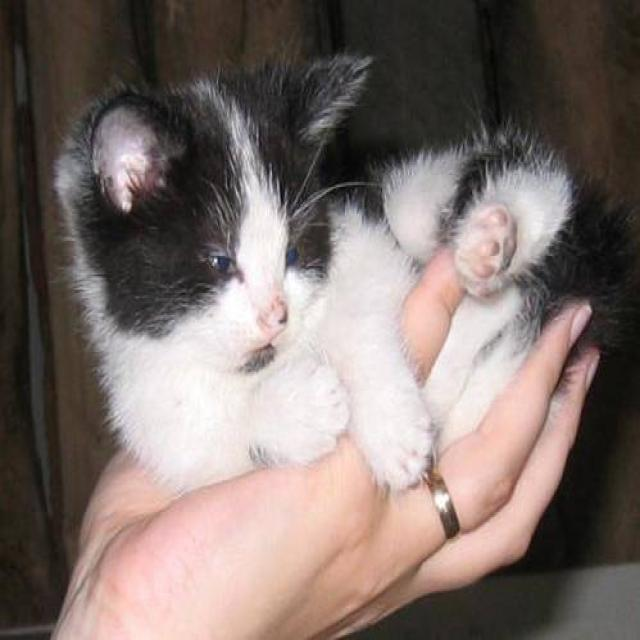cat: (29, 38, 584, 523)
